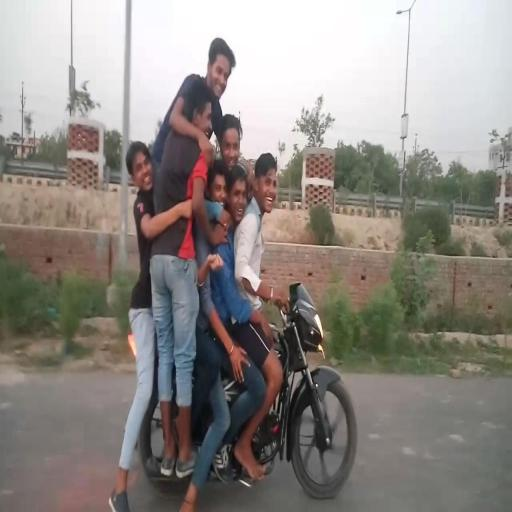no helmet: (244, 127, 302, 232)
triple riding: (102, 32, 368, 508)
